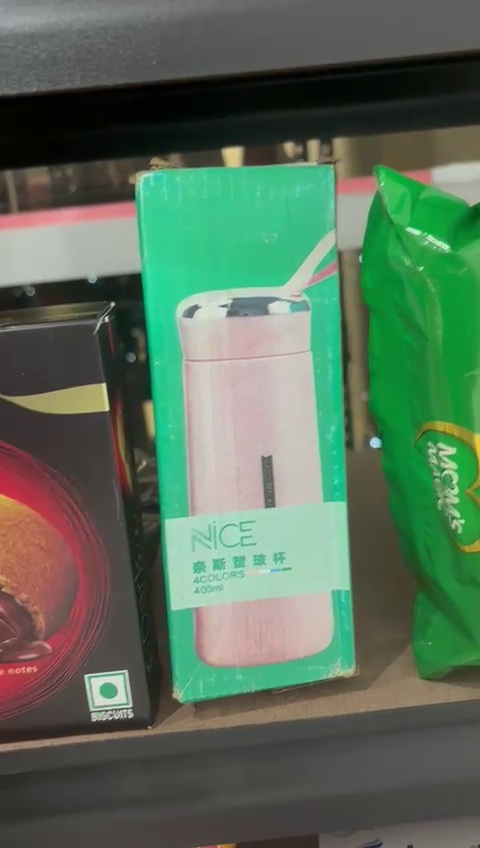Bottle: (133, 165, 369, 691)
